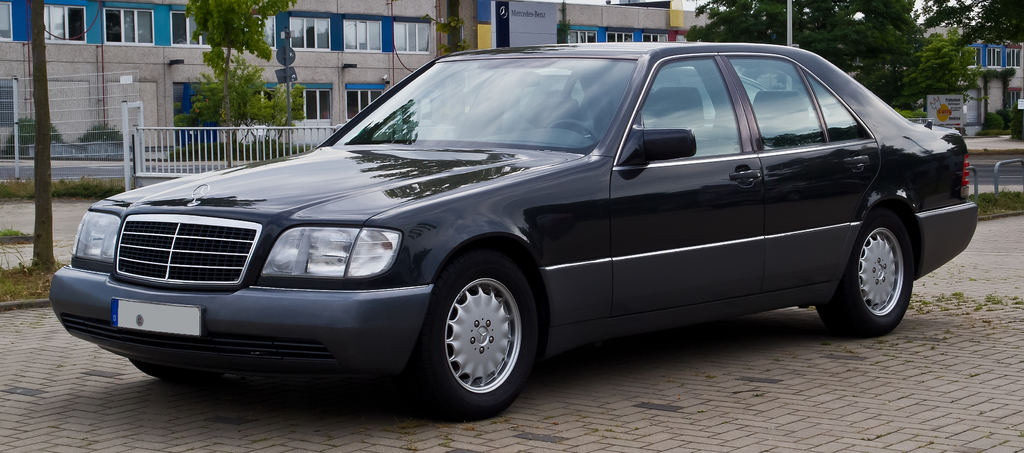Car: (49, 41, 978, 418)
